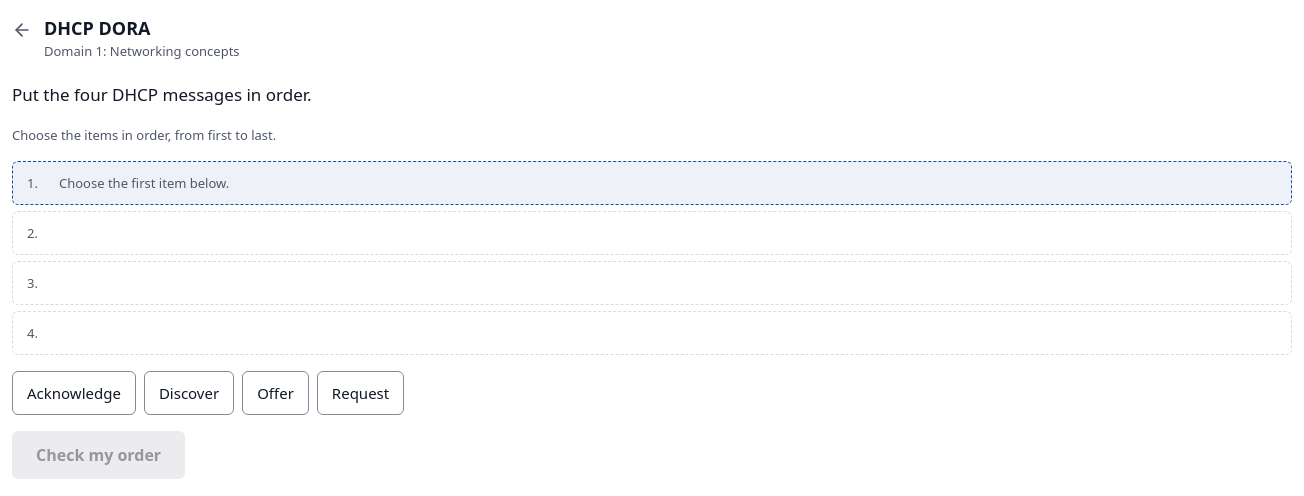
Test case: ordering PBQs › draws the way out after the score as an outline button, never a grey one that looks disabled
Click the button "Discover". click: (189, 393)
box: [144,371,234,415]
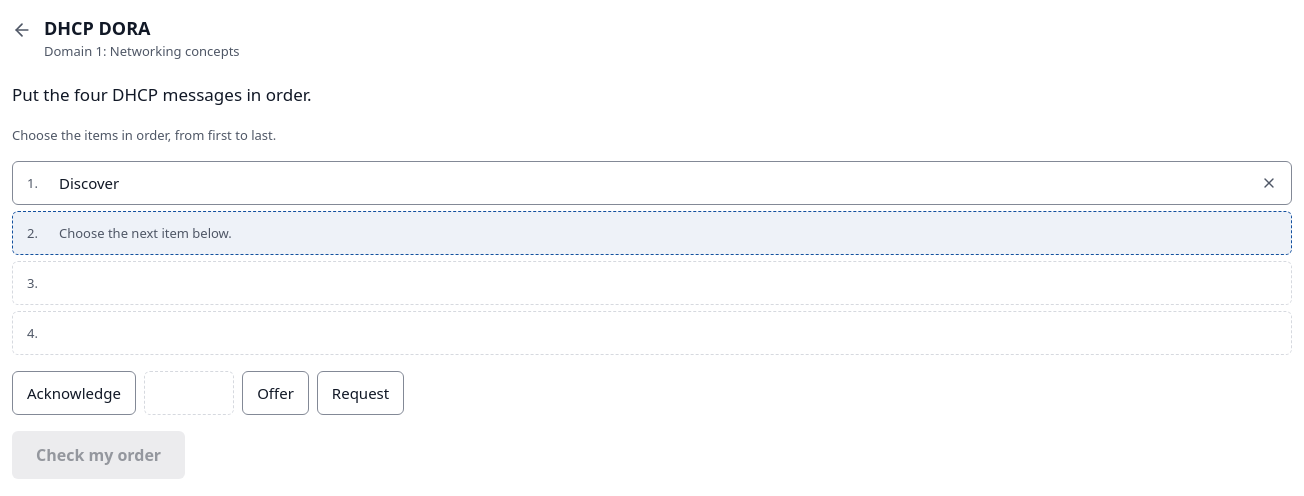
Click the button "Offer". click: (275, 393)
box: [242,371,309,415]
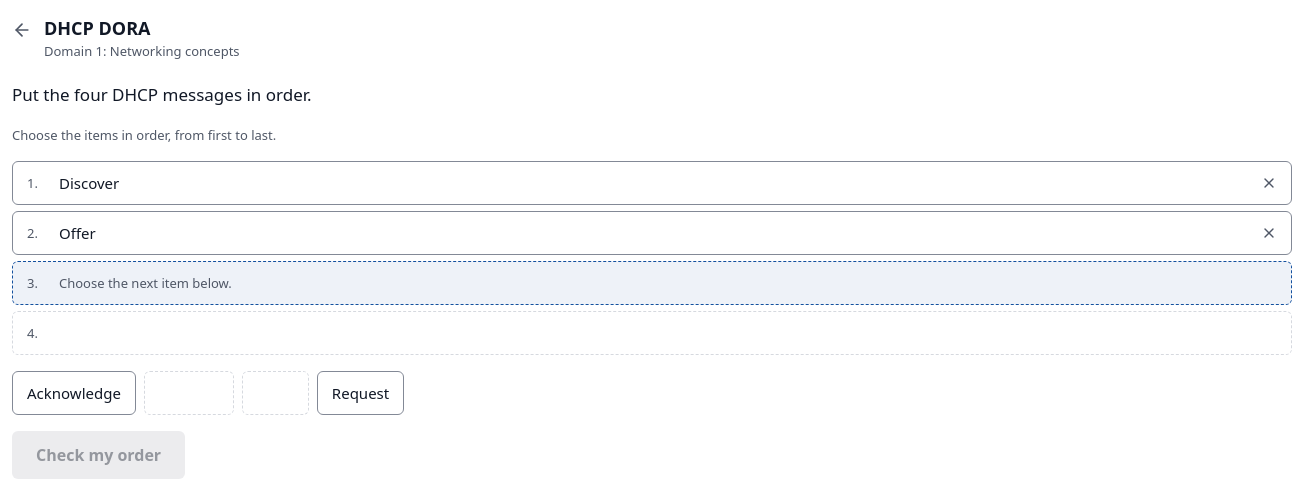
Click the button "Request". click: (360, 393)
box: [317,371,404,415]
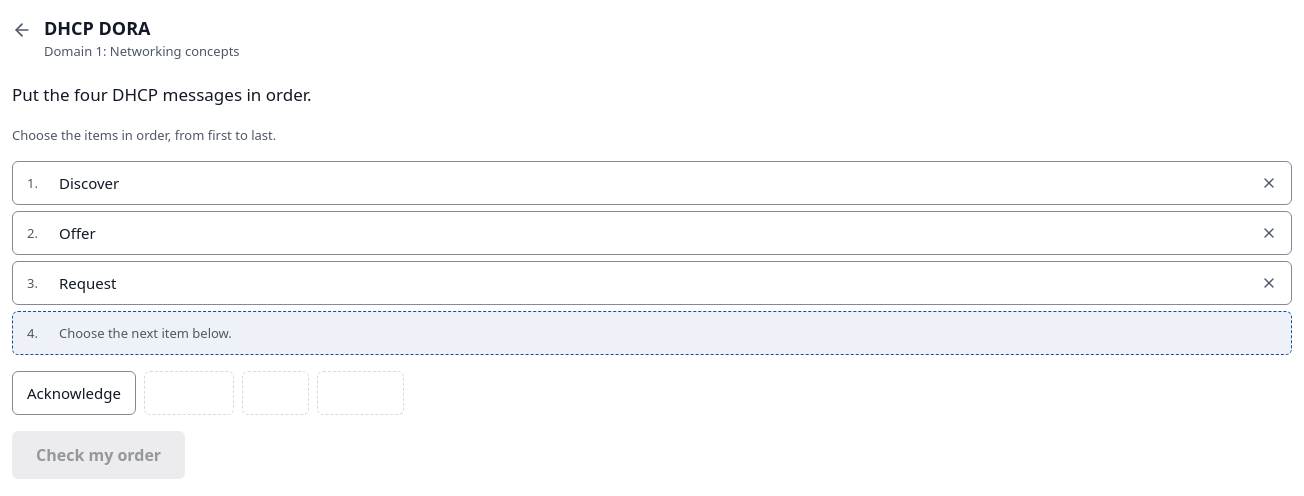
Click the button "Acknowledge". click: (74, 393)
box: [12,371,136,415]
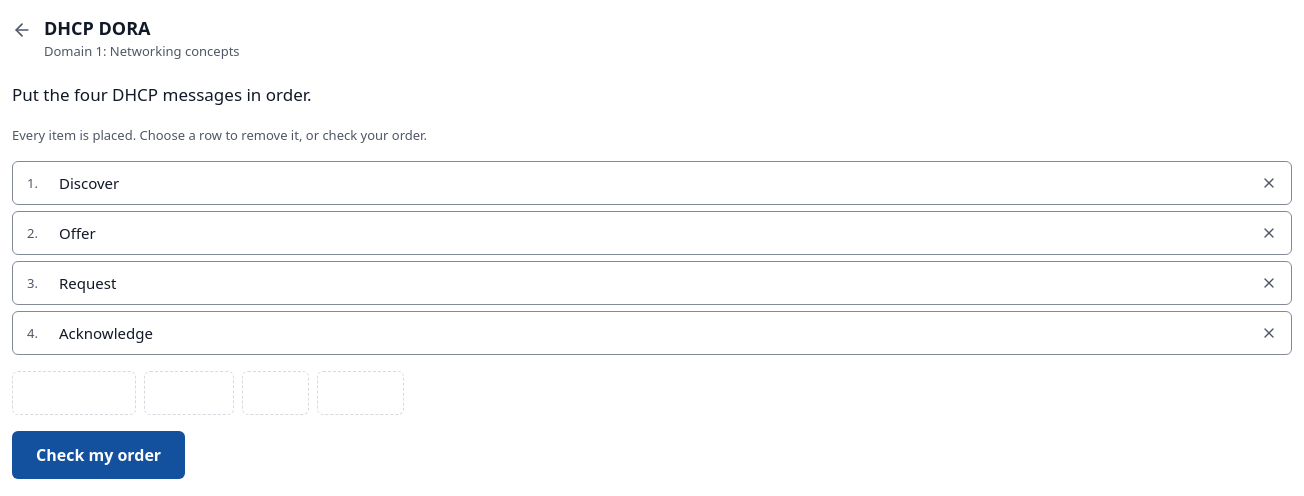
Click the button "Check my order". click: (99, 455)
box: [12,431,185,479]
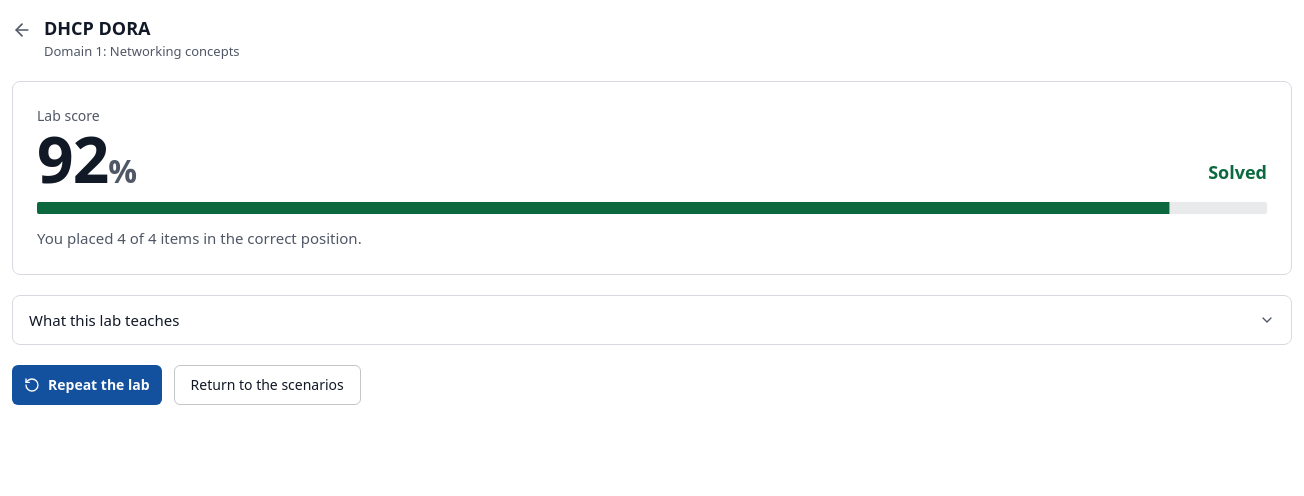
Expected: the button "Return to the scenarios" is shown, [174,365,361,405]
